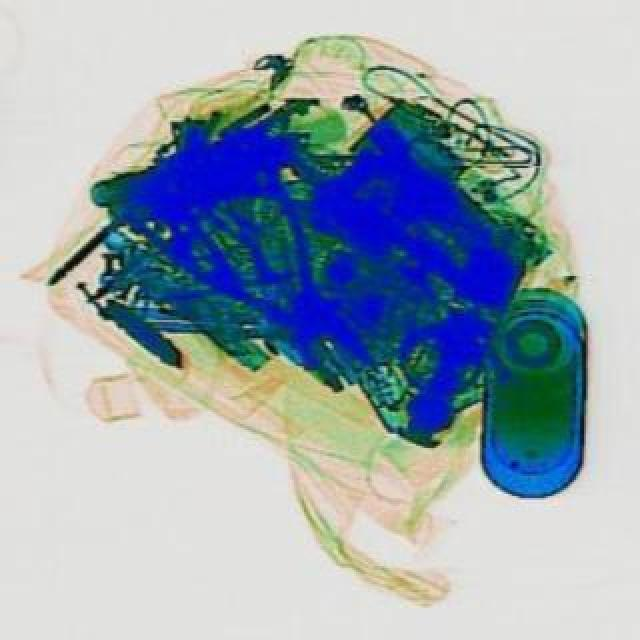wrench: (116, 130, 402, 414)
